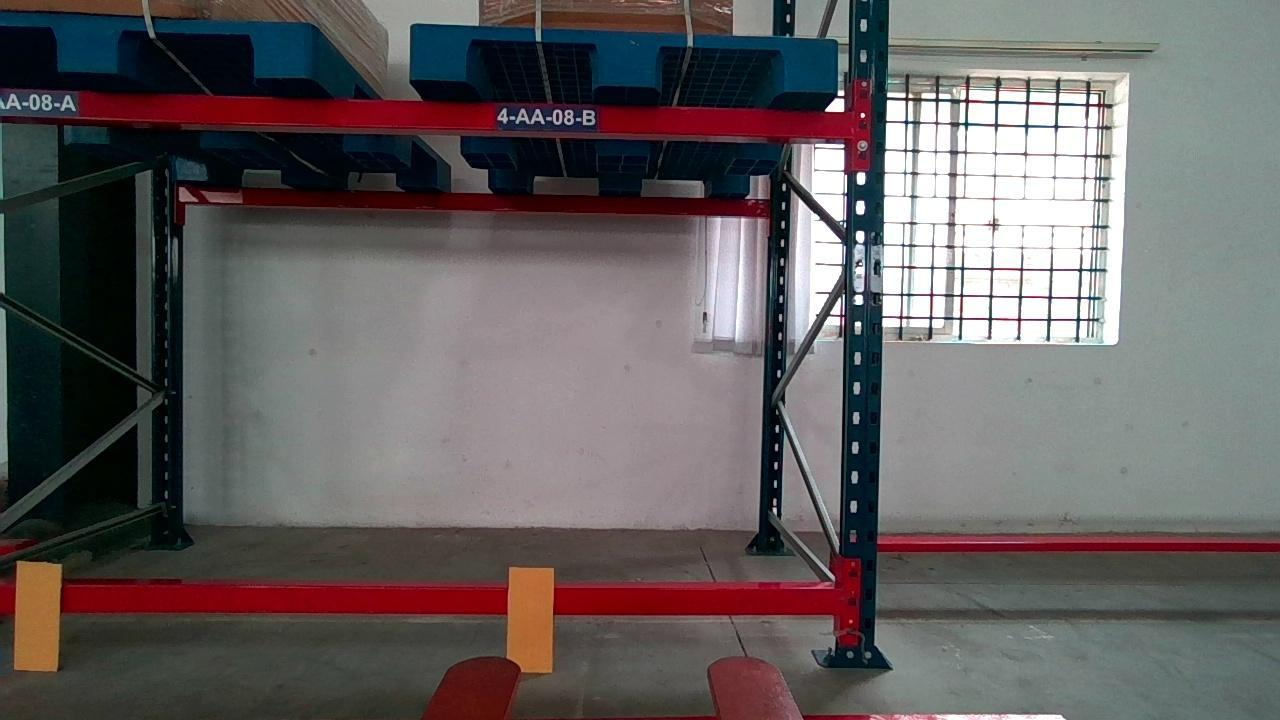h_rack: (2, 84, 859, 142), (0, 586, 836, 617)
orange_strip: (11, 558, 61, 671), (511, 566, 551, 671)
small_pallet: (412, 25, 835, 97), (0, 11, 310, 77)
